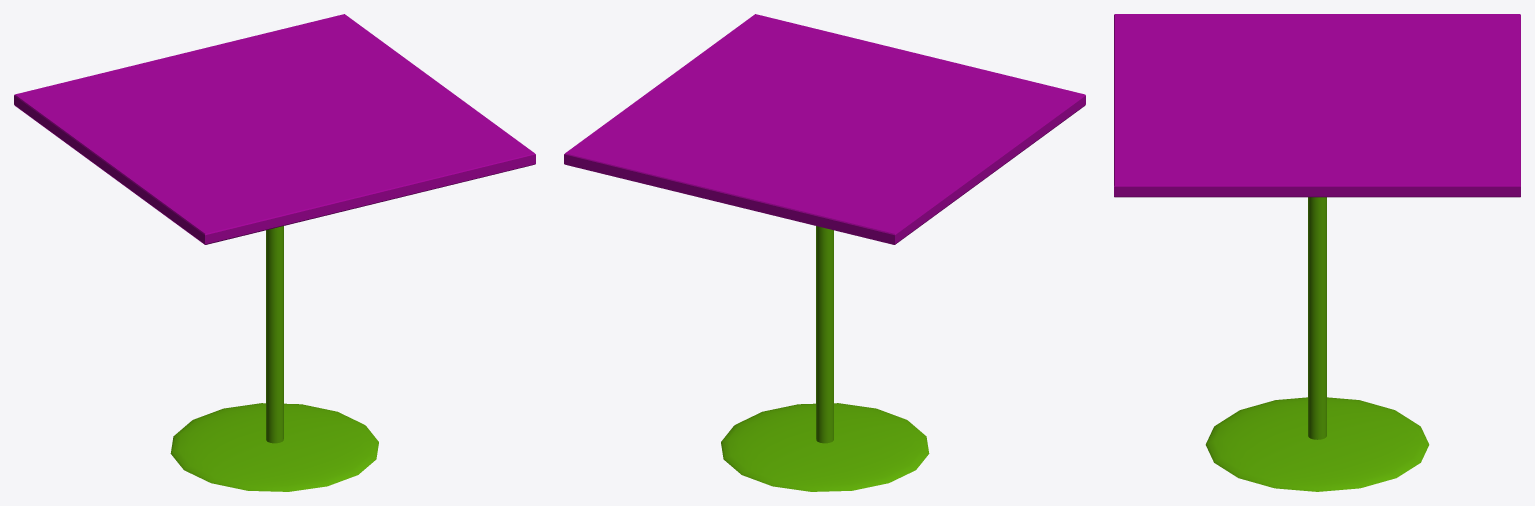
The model's file is ASS_table_v000.fbx.
3 renders of one model, left to right at view 1: azimuth 30°, elevation 25°; view 2: azimuth 150°, elevation 25°; view 3: azimuth 270°, elevation 25°, orthographic. The views are drawn at different scales.
Visible parts, largest first — view 1: pCube1, pSphere1, pCylinder1; view 2: pCube1, pSphere1, pCylinder1; view 3: pCube1, pSphere1, pCylinder1.
Part boxes in pixels (x1,y1,x2,y2): pCube1: (14,14,535,244); pSphere1: (170,403,378,491); pCylinder1: (266,226,283,443); pCube1: (564,14,1085,244); pSphere1: (721,403,929,491); pCylinder1: (816,226,833,443); pCube1: (1114,14,1520,197); pSphere1: (1205,397,1429,491); pCylinder1: (1308,197,1326,439).
Size of the model in its own units: 27.04 by 25.3 by 27.04.
